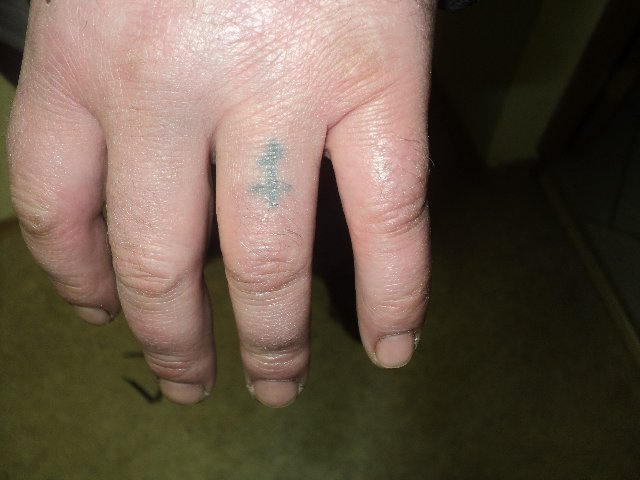tatu9_krest: (248, 133, 296, 210)
